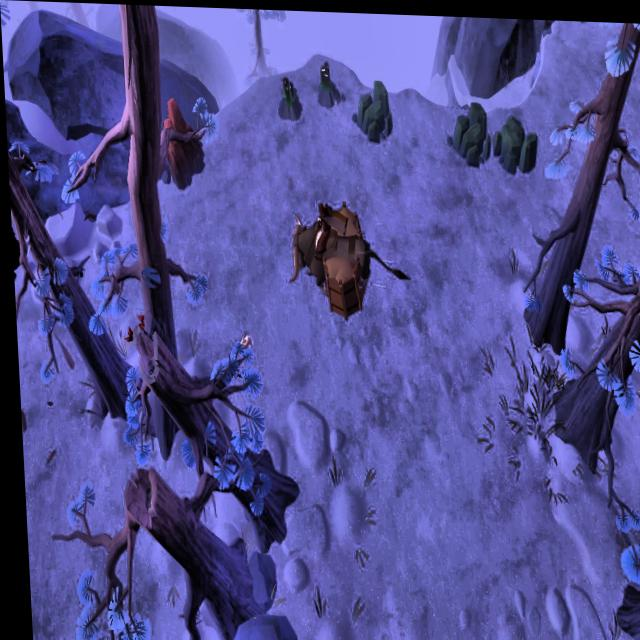ore_t3: (279, 72, 299, 108), (318, 57, 330, 93)
rock_t3: (443, 87, 494, 160), (492, 102, 540, 174), (350, 70, 396, 140)
rock_t5: (151, 93, 208, 187)
